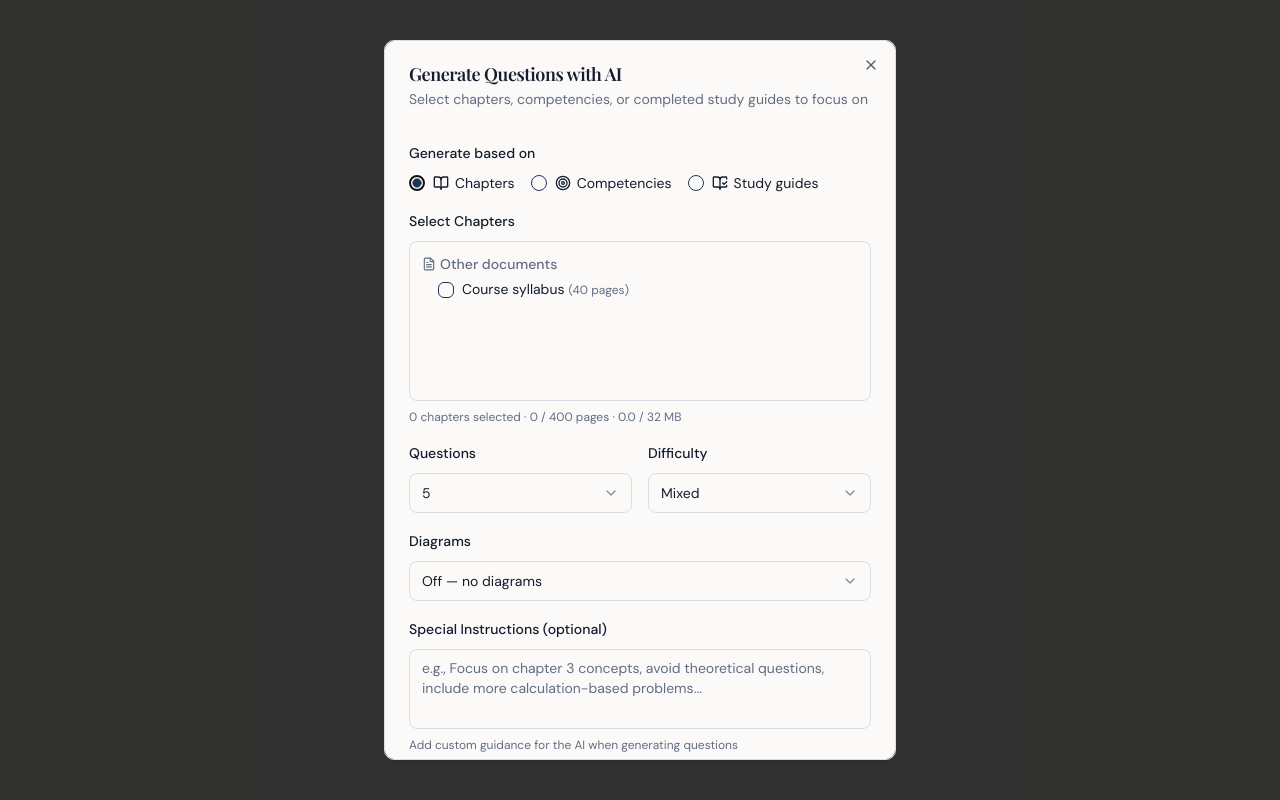
Scenario: GenerateMcqDialog (#873) › counts a document against the page budget
Click the checkbox named "Course syllabus": click(446, 290) [438,282,454,298]
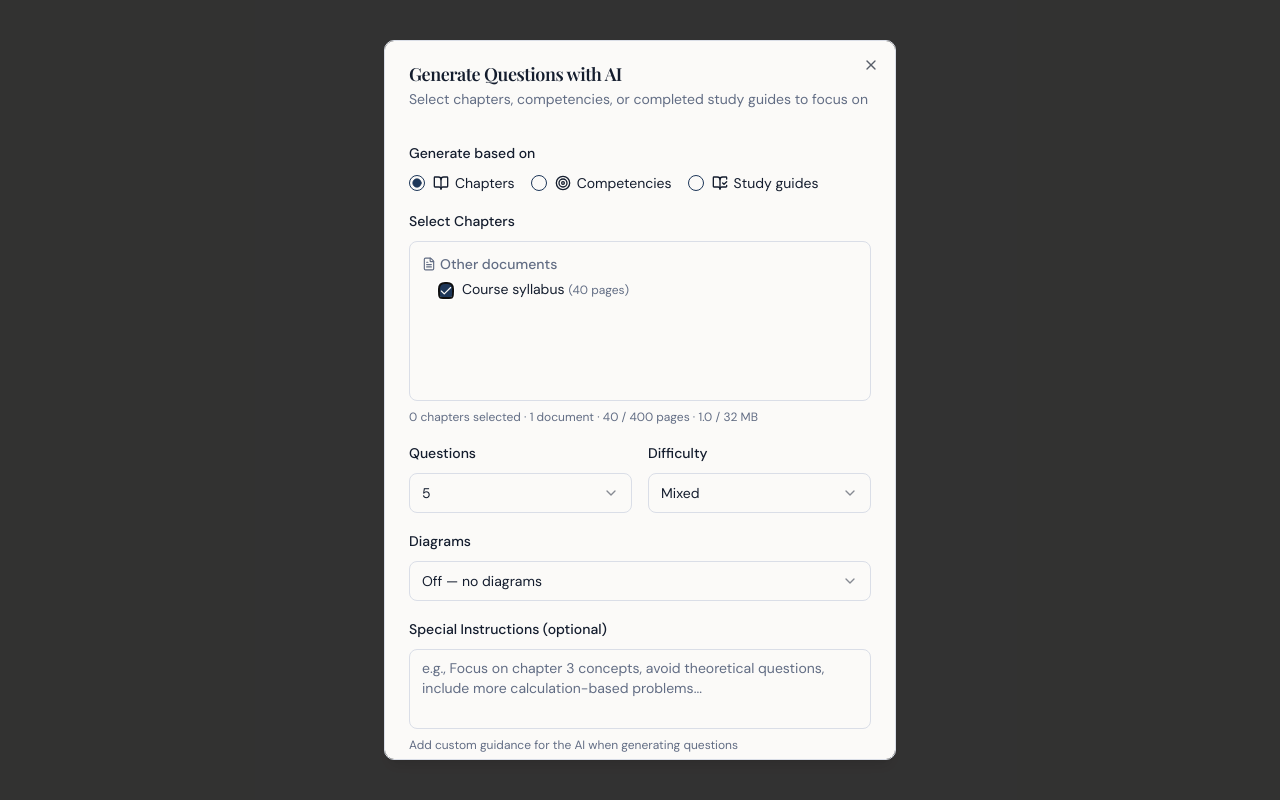
expect the text "1 document · 40 / 400 pages" is shown: met, box [409,409,758,425]
